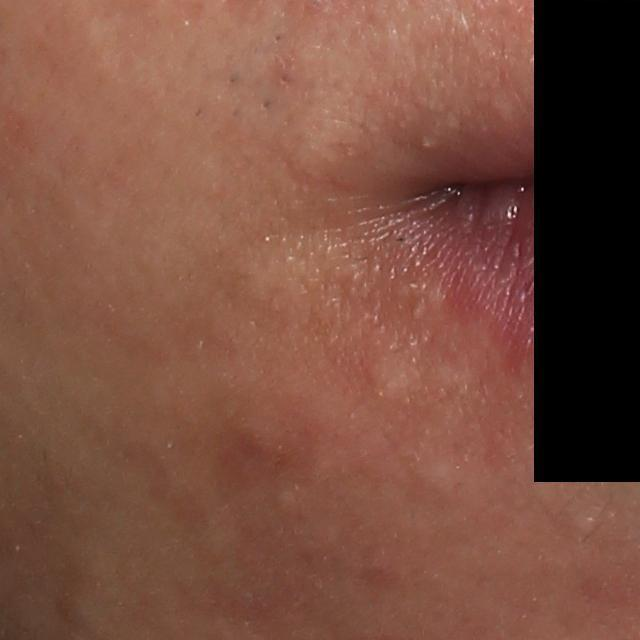comedo: (570, 511, 608, 539)
hypertrophic_scar: (401, 439, 468, 507), (367, 347, 429, 411)
